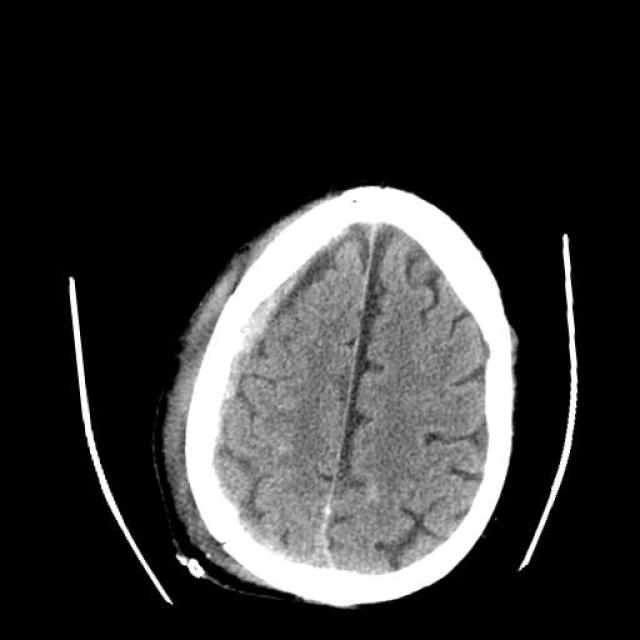Subdural: (111, 225, 387, 513)
